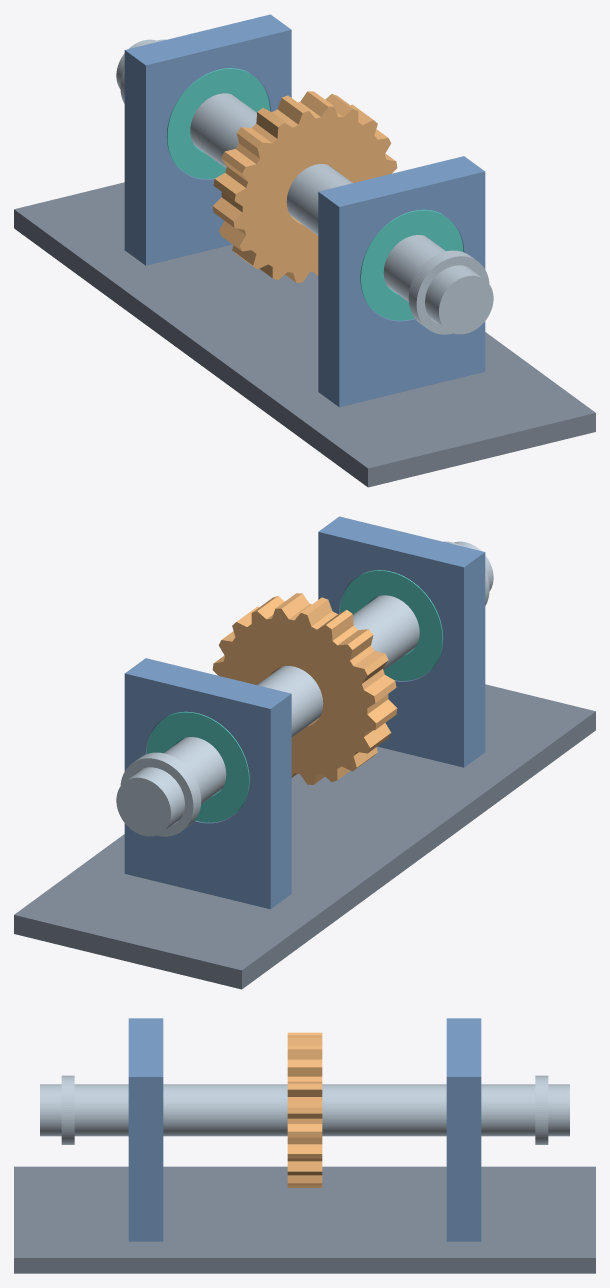
The model's file is assembly.glb.
The picture shows the model from 3 angles, top to bottom: view 1: azimuth 30°, elevation 25°; view 2: azimuth 150°, elevation 25°; view 3: azimuth 270°, elevation 25°; orthographic projection. The views are drawn at different scales.
Parts seen in each view (by area): view 1: base, rear_housing, front_housing, gear, shaft, front_bearing, rear_bearing, rear_retainer; view 2: base, front_housing, rear_housing, gear, shaft, rear_bearing, front_bearing, front_retainer; view 3: base, shaft, front_housing, rear_housing, gear, front_retainer, rear_retainer.
Part boxes in pixels (x1,y1,x2,y2): base: (14,182,595,487); rear_housing: (318,156,485,407); front_housing: (124,14,291,265); gear: (212,91,397,282); shaft: (116,39,493,334); front_bearing: (166,68,269,178); rear_bearing: (360,209,463,320); rear_retainer: (408,250,489,334); base: (14,684,595,989); front_housing: (124,658,291,909); rear_housing: (318,516,485,767); gear: (212,593,397,784); shaft: (116,541,493,836); rear_bearing: (340,570,443,680); front_bearing: (146,711,249,822); front_retainer: (120,752,201,836); base: (14,1166,595,1273); shaft: (40,1084,569,1136); front_housing: (446,1018,481,1241); rear_housing: (128,1018,163,1241); gear: (287,1032,322,1187); front_retainer: (535,1075,548,1144); rear_retainer: (61,1075,74,1144).
Size of the model in its own units: 0.0505 by 0.0484 by 0.1358.
